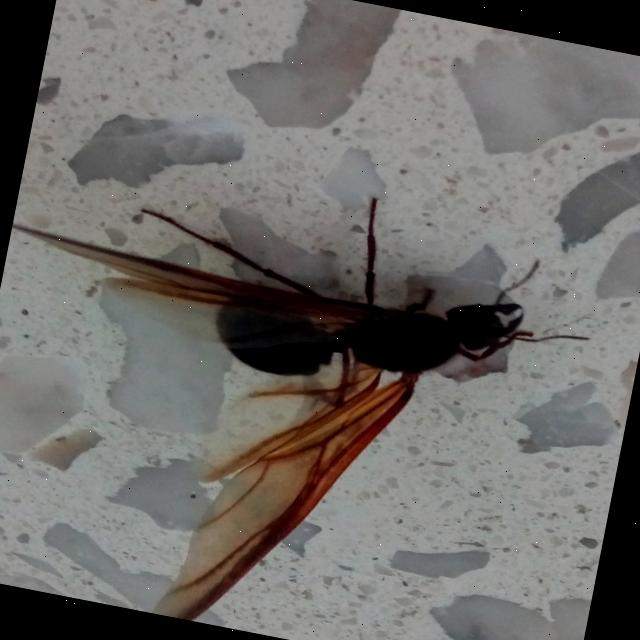Alive-Female-Alate: (0, 130, 610, 640)
